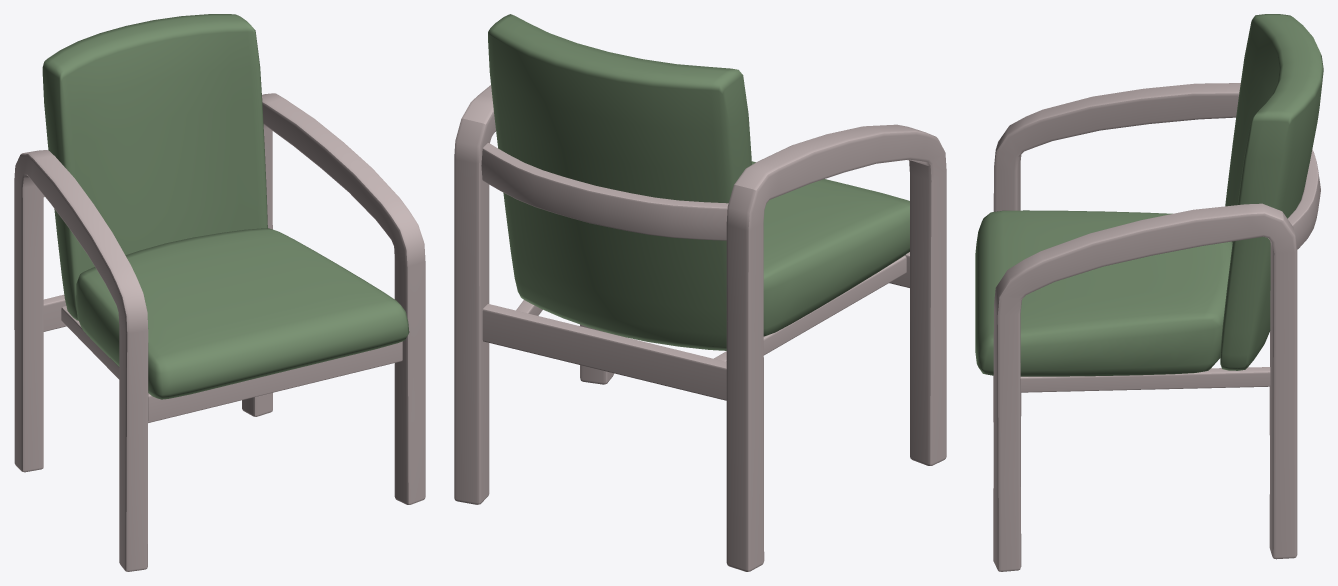
Rendered from SM_Chair_01.fbx.
The picture shows the model from 3 angles, left to right: view 1: azimuth 30°, elevation 25°; view 2: azimuth 150°, elevation 25°; view 3: azimuth 270°, elevation 25°; orthographic projection. The views are drawn at different scales.
Parts seen in each view (by area): view 1: Coussin_01, Appui_01, Appui_02; view 2: Coussin_01, Appui_01, Appui_02; view 3: Coussin_01, Appui_01, Appui_02.
Boxes of the visible parts, left/top/right/bottom form: Coussin_01: left=42, top=14, right=409, bottom=399; Appui_01: left=14, top=93, right=425, bottom=571; Appui_02: left=43, top=195, right=402, bottom=422; Coussin_01: left=488, top=14, right=909, bottom=350; Appui_01: left=454, top=85, right=946, bottom=571; Appui_02: left=481, top=143, right=909, bottom=400; Coussin_01: left=975, top=14, right=1323, bottom=376; Appui_01: left=993, top=83, right=1297, bottom=571; Appui_02: left=1020, top=149, right=1320, bottom=392.
Bounding box in the file's own units: 75.85 × 97.27 × 71.01.
